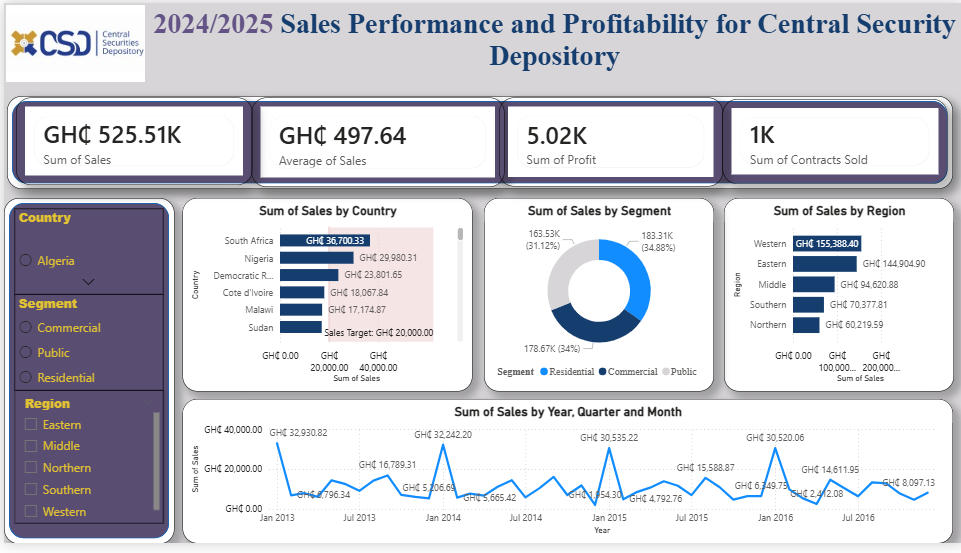

What the dashboard file says about the page in this screenshot:
{"tool":"powerbi","page":{"name":"Page 1","canvas":[1280,720],"ordinal":0},"visuals":[{"type":"shape","box":[0,259.3,227.5,461.3],"z":0},{"type":"shape","box":[4.8,124.1,1261.4,124.1],"z":1000},{"type":"image","box":[0,0,190.9,107.7],"z":2000},{"type":"textbox","box":[190.9,0,1088.5,107.7],"z":3000},{"type":"barChart","fields":{"Y":["Sum(SalesData.Sales)"],"Category":["SalesData.Country"]},"box":[238.6,259.3,386.5,257.7],"z":4000},{"type":"cardVisual","fields":{"Data":["Avg(SalesData.Sales)"]},"box":[329.3,125.7,337.2,119.3],"z":5000},{"type":"barChart","fields":{"Y":["Sum(SalesData.Sales)"],"Category":["SalesData.Region"]},"box":[959.1,259.3,307,257.7],"z":6000},{"type":"cardVisual","fields":{"Data":["Sum(SalesData.Sales)"]},"box":[15,126.7,315,116.7],"z":7000},{"type":"donutChart","fields":{"Y":["Sum(SalesData.Sales)"],"Category":["SalesData.Segment"]},"box":[639.4,259.3,307,257.7],"z":8000},{"type":"slicer","fields":{"Values":["SalesData.Region"]},"box":[14.3,516.9,198.8,178.1],"z":9000},{"type":"listSlicer","fields":{"Values":["SalesData.Segment"]},"box":[14.3,388.1,198.8,128.8],"z":10000},{"type":"listSlicer","fields":{"Values":["SalesData.Country"]},"box":[14.3,273.6,198.8,114.5],"z":11000},{"type":"lineChart","fields":{"Y":["Sum(SalesData.Sales)"],"Category":["SalesData.Date.Variation.Date Hierarchy.Year","SalesData.Date.Variation.Date Hierarchy.Quarter","SalesData.Date.Variation.Date Hierarchy.Month"]},"box":[238.6,528.1,1027.5,192.5],"z":12000},{"type":"cardVisual","fields":{"Data":["Sum(SalesData.Profit)"]},"box":[660,125,298.3,118.3],"z":12001},{"type":"cardVisual","fields":{"Data":["Sum(SalespersonData.Contracts Sold)"]},"box":[958.3,128.3,300,113.3],"z":12002}]}

Visuals, with their boxes in screenshot pixels (x1, y1, x2, y2), scaled from the page's 1280x720 canvas onto the 961x553 screenshot:
shape: bbox(0, 199, 171, 552)
shape: bbox(4, 95, 951, 191)
image: bbox(0, 0, 143, 83)
textbox: bbox(143, 0, 960, 83)
barChart - Sum(SalesData.Sales) x SalesData.Country: bbox(179, 199, 469, 397)
cardVisual - Avg(SalesData.Sales): bbox(247, 97, 500, 188)
barChart - Sum(SalesData.Sales) x SalesData.Region: bbox(720, 199, 951, 397)
cardVisual - Sum(SalesData.Sales): bbox(11, 97, 248, 187)
donutChart - Sum(SalesData.Sales) x SalesData.Segment: bbox(480, 199, 711, 397)
slicer - SalesData.Region: bbox(11, 397, 160, 534)
listSlicer - SalesData.Segment: bbox(11, 298, 160, 397)
listSlicer - SalesData.Country: bbox(11, 210, 160, 298)
lineChart - Sum(SalesData.Sales) x SalesData.Date.Variation.Date Hierarchy.Year: bbox(179, 406, 951, 552)
cardVisual - Sum(SalesData.Profit): bbox(496, 96, 719, 187)
cardVisual - Sum(SalespersonData.Contracts Sold): bbox(719, 99, 945, 186)
